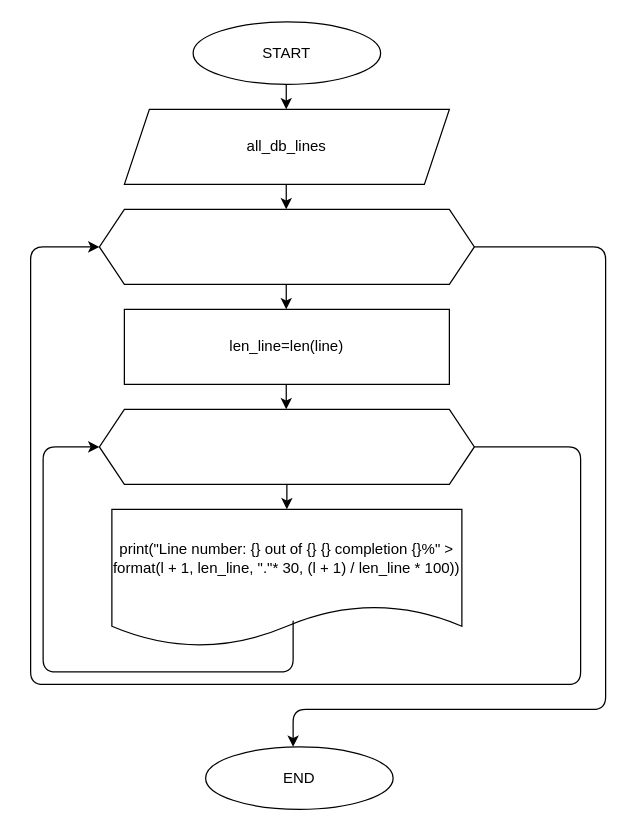
Image size: 638x831. Some labels were removed from this diagram. Each missing label, with the box of its shape:
for l in range(len_line): (98, 408, 474, 484)
for line in all_db_lines: (98, 208, 474, 284)
